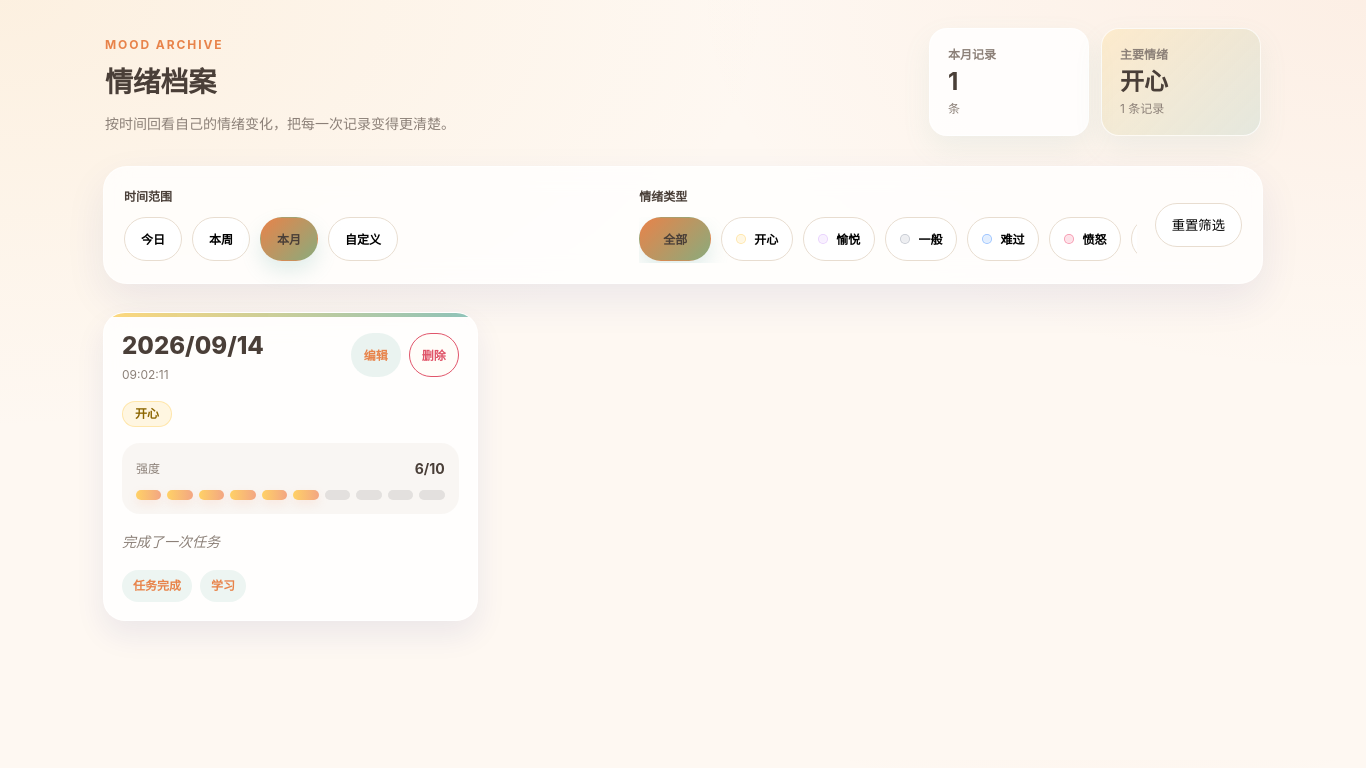
MoodArchive deletion flow › deletes the record through the API before removing it from the archive
This screenshot has width=1366, height=768.
Check: the number of elements with class "record-card" is 1, box [103,312,478,621]
What coordinates should you click on to do the following:
click the button with class "delete-btn"
I would click on:
 (434, 355)
Its box is [409,333,459,377].
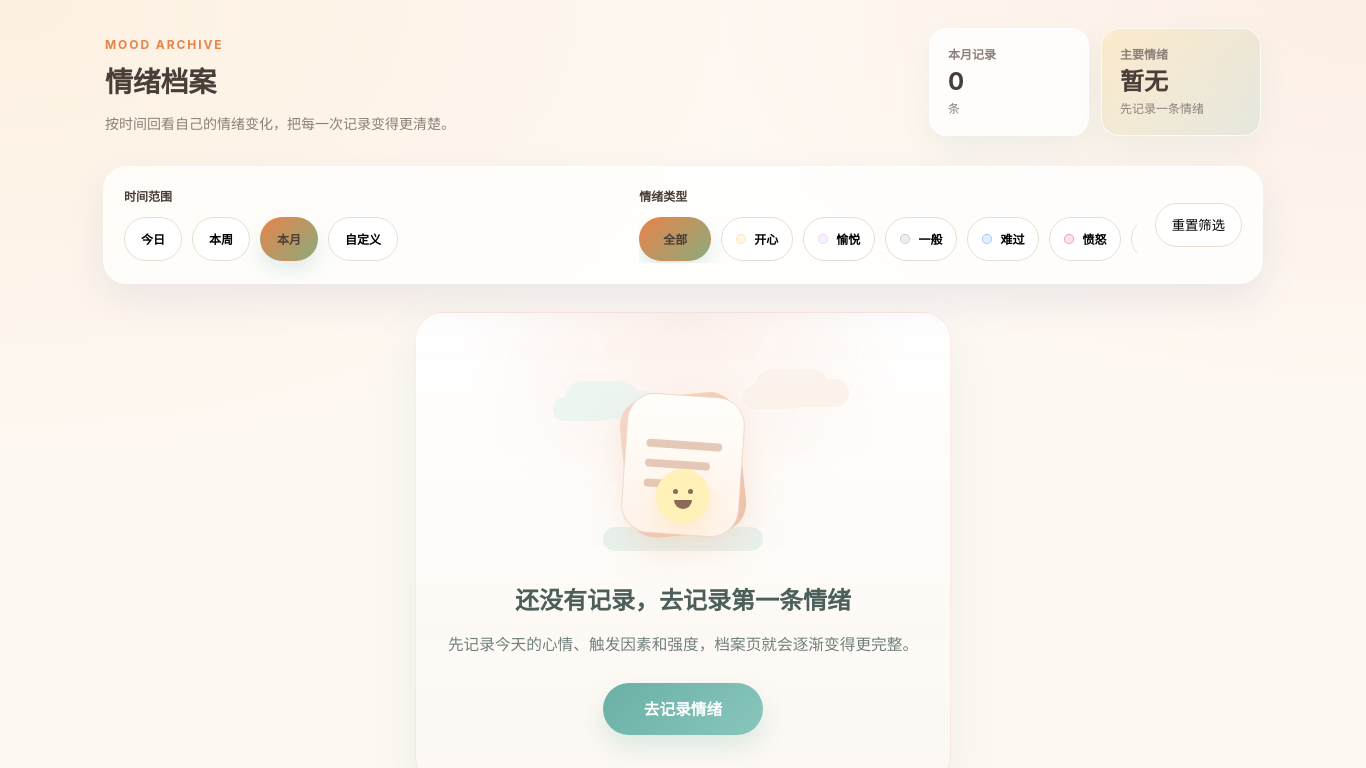
Check: no elements with class "record-card" are shown
